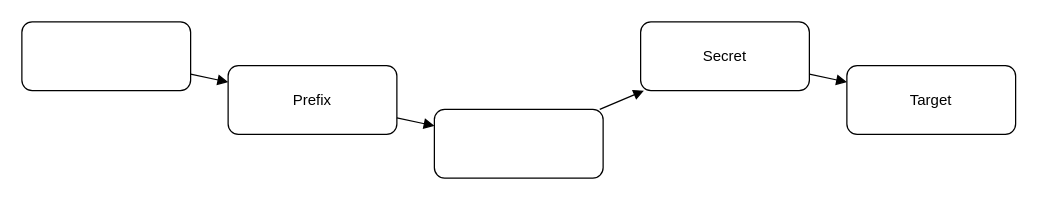
The diagram is 1038 pixels wide and 200 high, and some of its shapes have lost their labels. Here are the shapes that lost their labels. From the top down, the centre of each, then its label:
At pixel 106 56: "Operator".
At pixel 518 143: "Lookup".
